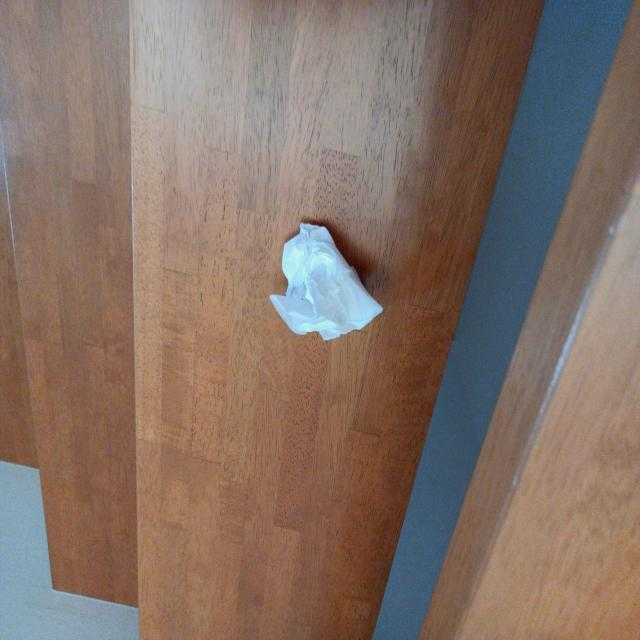Paper: (248, 215, 390, 372)
